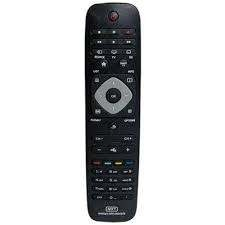remote control: (85, 4, 144, 223)
